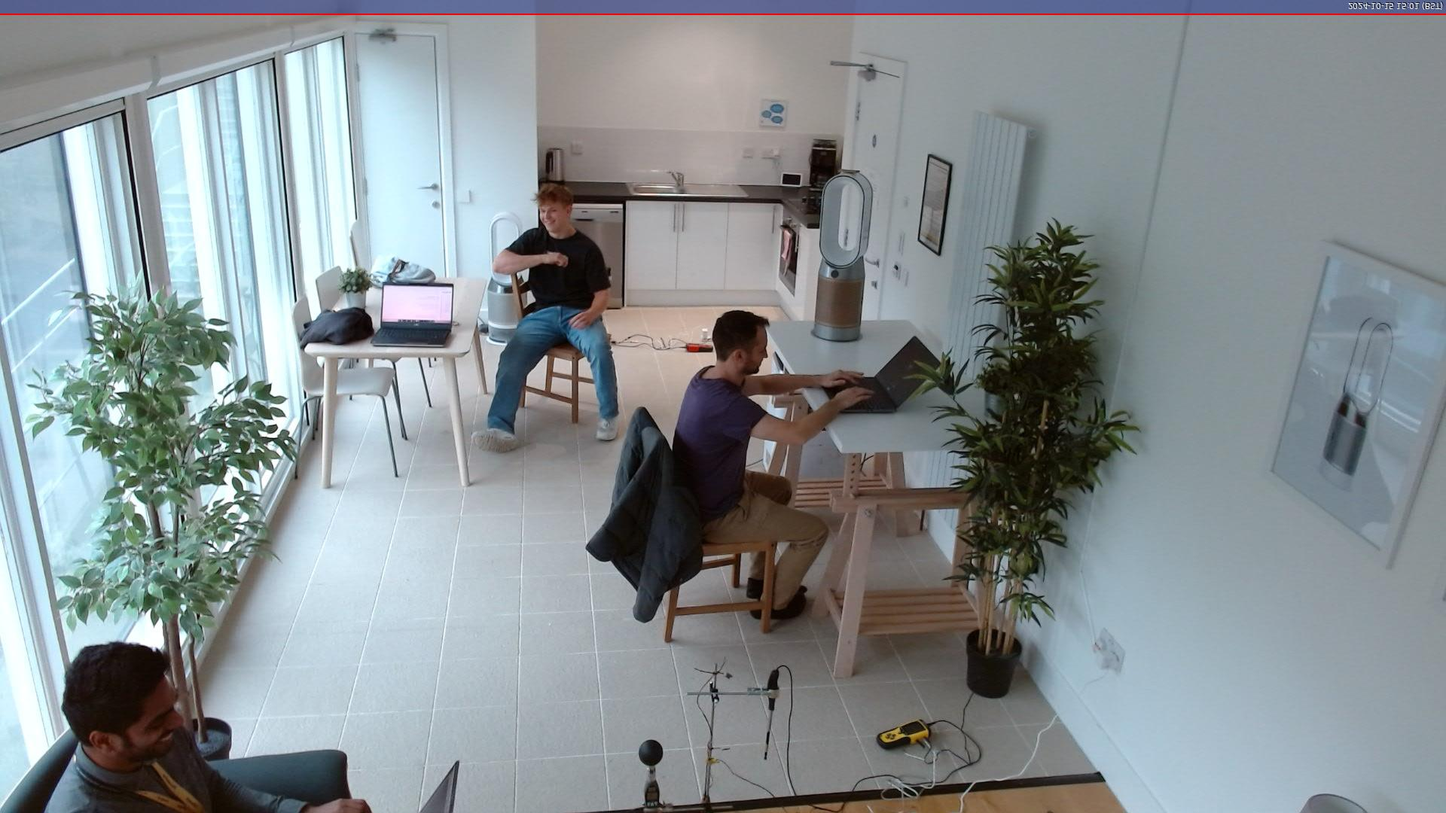long sleeve shirt: (43, 722, 309, 813)
short sleeve shirt: (670, 358, 770, 528), (501, 225, 611, 310)
trousers: (698, 468, 833, 605), (481, 306, 621, 434)
